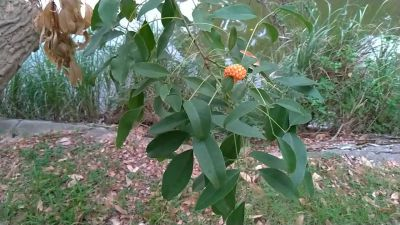eggs: (224, 62, 247, 82)
